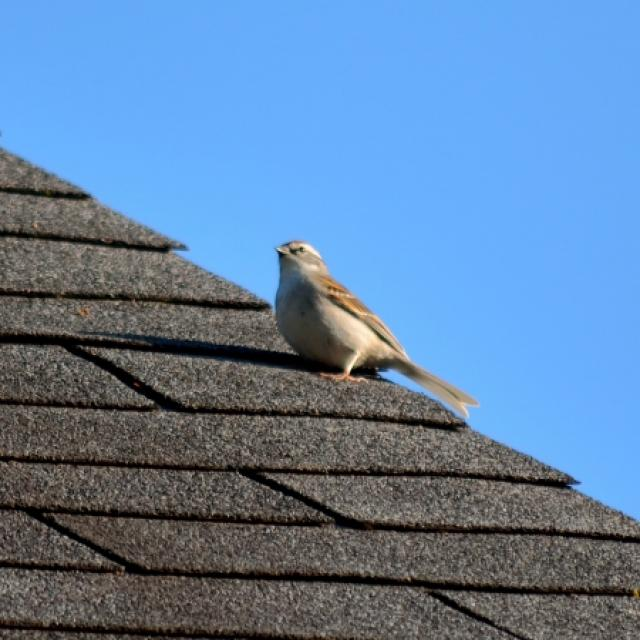bird: (270, 239, 482, 418)
